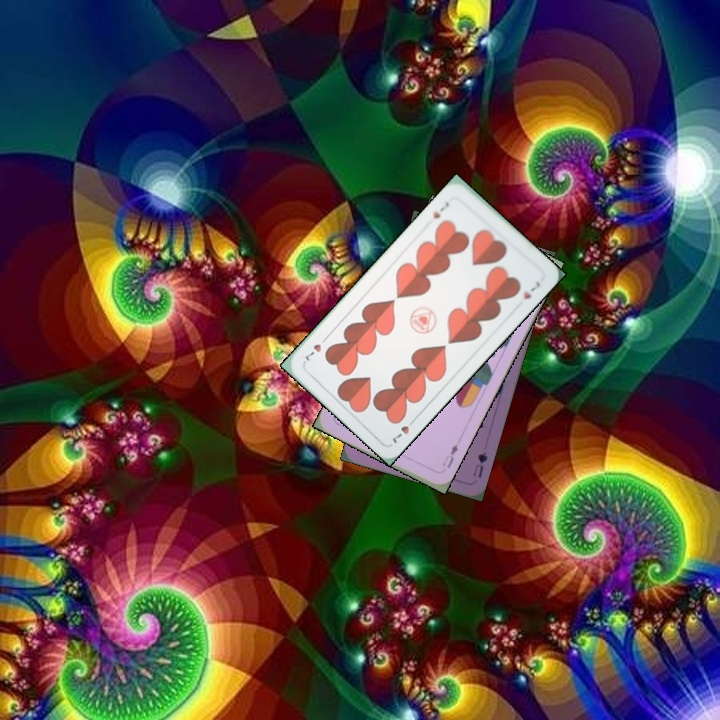EU: (436, 440, 461, 475)
GU: (469, 448, 490, 480)
H7: (388, 413, 419, 446), (429, 198, 452, 221)
